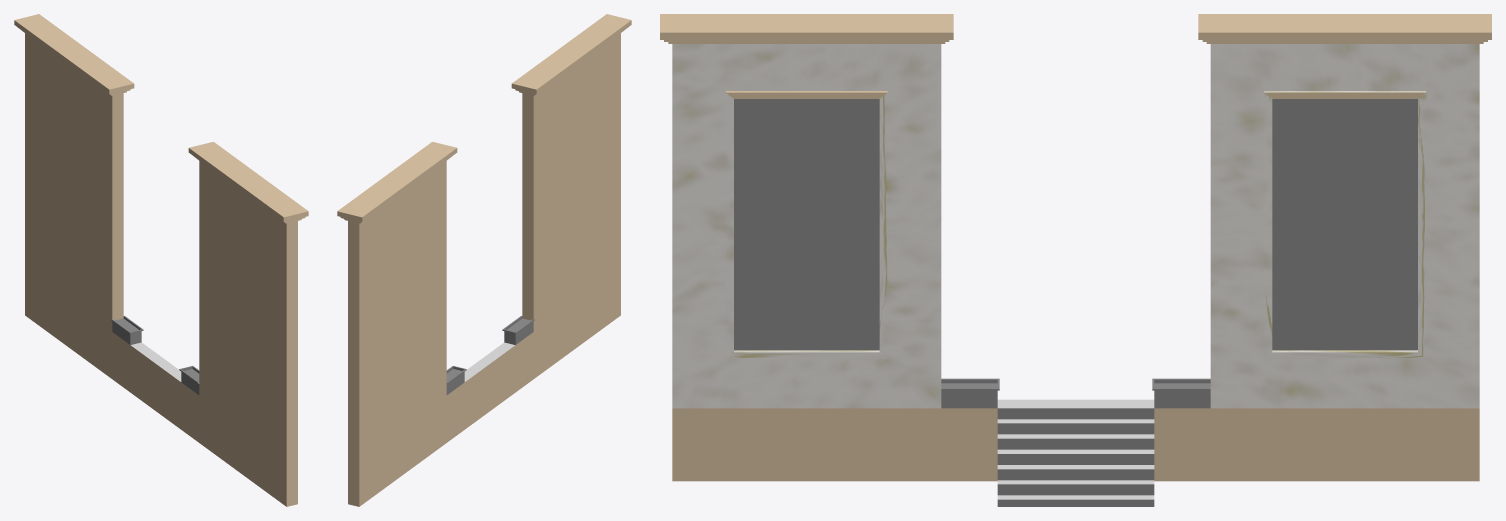
The model's file is PUT_3004_autosave.fbx.
3 renders of one model, left to right at view 1: azimuth 30°, elevation 25°; view 2: azimuth 150°, elevation 25°; view 3: azimuth 270°, elevation 25°, orthographic. The views are drawn at different scales.
Visible parts, largest first — view 1: Cube.002; view 2: Cube.002; view 3: Cube.002.
Part boxes in pixels (x1,y1,x2,y2): Cube.002: [14, 14, 308, 506]; Cube.002: [337, 14, 631, 506]; Cube.002: [660, 14, 1491, 506].
Bounding box in the file's own units: 230 × 1240 × 2060.
